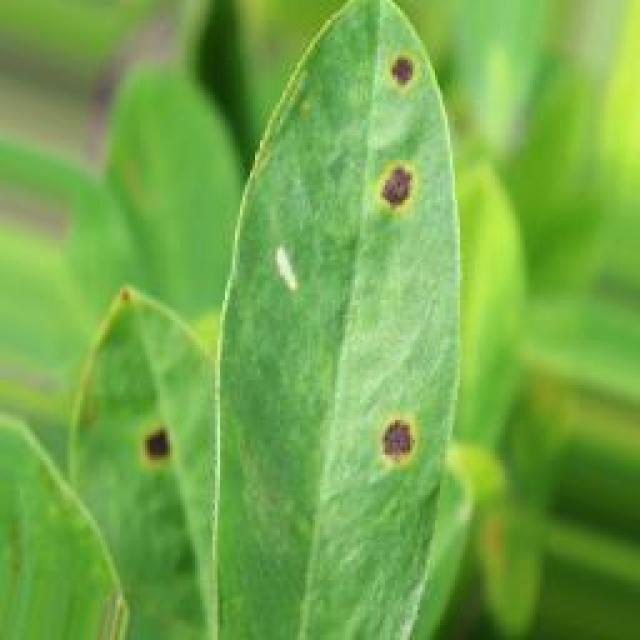Early_leaf_spot: (352, 147, 424, 262), (360, 380, 420, 492), (116, 402, 194, 486), (100, 270, 159, 350), (381, 42, 431, 104), (272, 238, 312, 304)
